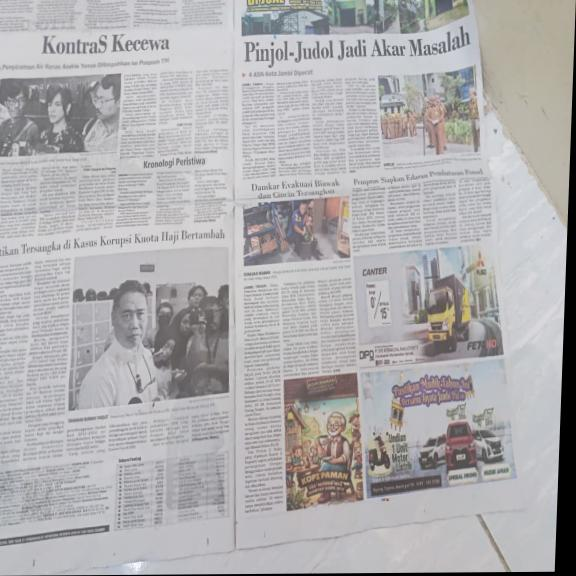Kertas: (238, 221, 516, 540), (0, 228, 241, 556), (0, 3, 242, 221), (236, 0, 483, 202)
